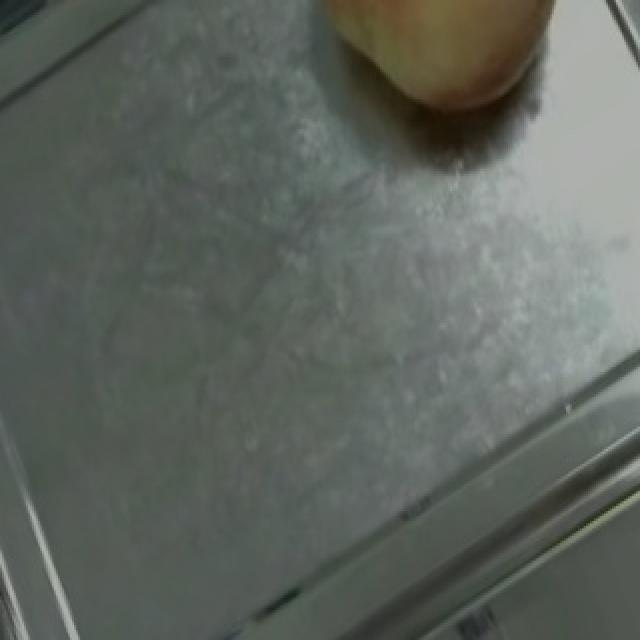Fruit: (278, 0, 590, 154)
